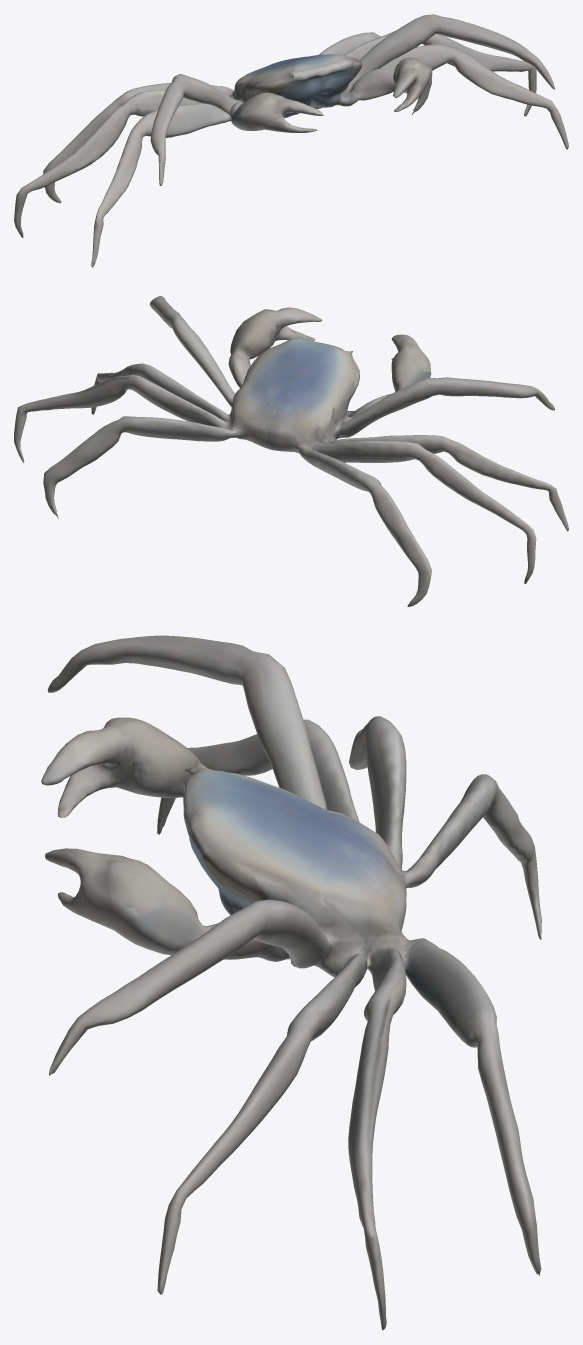
File: Karstama_Jacobsoni_1019092125_texture.fbx
3 renders of one model, top to bottom at view 1: azimuth 30°, elevation 25°; view 2: azimuth 150°, elevation 25°; view 3: azimuth 270°, elevation 25°, orthographic. The views are drawn at different scales.
Visible parts, largest first — view 1: Mesh1.0; view 2: Mesh1.0; view 3: Mesh1.0.
Part boxes in pixels (box(x1,y1,x2,y2)): Mesh1.0: box(14, 14, 568, 267); Mesh1.0: box(14, 296, 568, 606); Mesh1.0: box(41, 635, 541, 1330).
Bounding box in the file's own units: 200 × 61.07 × 83.42.
1 material, 1 textured.
